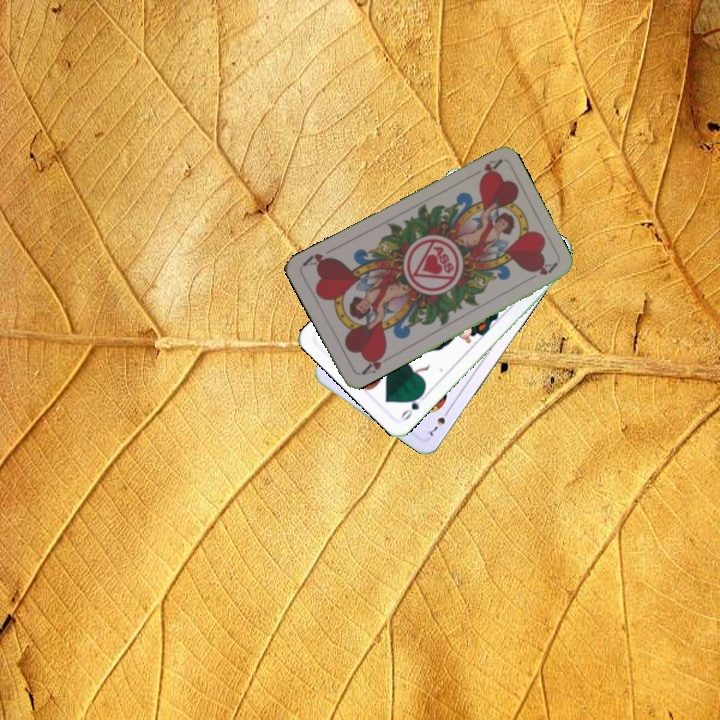GO: (396, 389, 429, 423)
HA: (357, 348, 393, 378), (465, 155, 504, 182)
S7: (423, 405, 453, 439)
